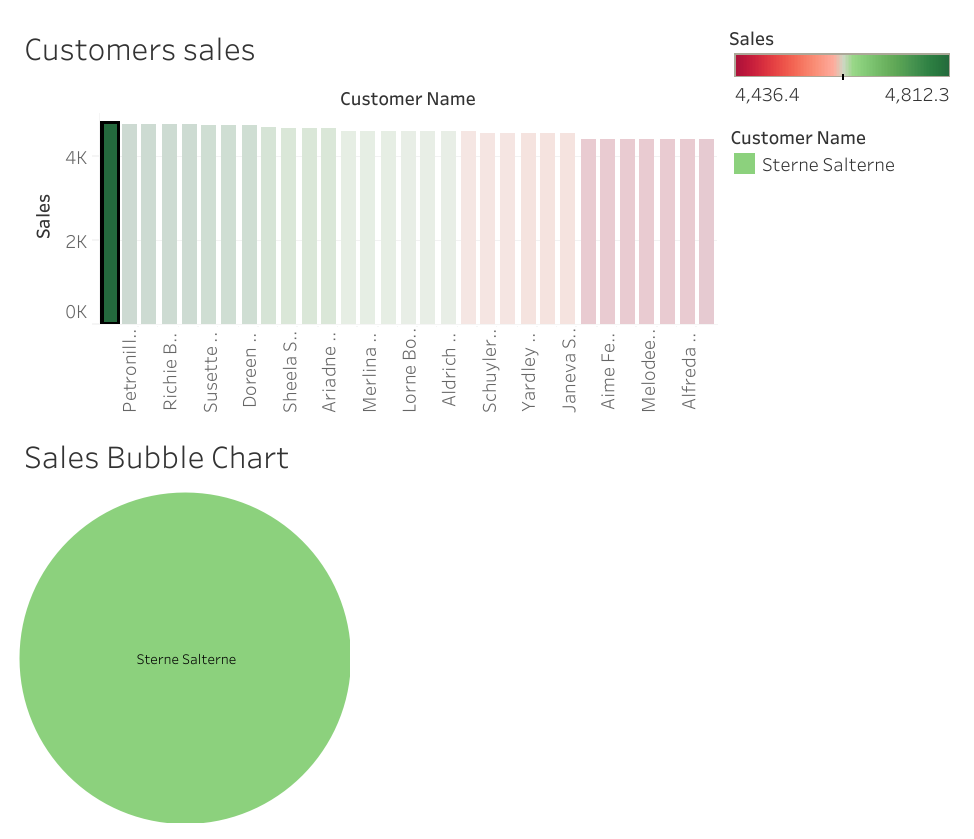

This screenshot's page, from the dashboard's own definition file:
{"tool":"tableau","page":{"name":"Customers sales Bar and Bubble Chart","canvas":[650,860],"ordinal":0},"visuals":[{"type":"worksheet","title":"Customers sales","mark":"Automatic","rows":["Sales"],"cols":["Customer Name"],"box":[8,8.4,474,421.6]},{"type":"legend","title":"Customers sales","param":"[federated.10ikwwm1ajdv2n1eb50fu113wv29].[sum:Sales:qk]","box":[482,8.4,160,85.1]},{"type":"legend","title":"Sales Bubble Chart","param":"[federated.10ikwwm1ajdv2n1eb50fu113wv29].[none:Customer Name:nk]","box":[482,93.5,160,62]},{"type":"worksheet","title":"Sales Bubble Chart","mark":"Circle","box":[8,430,474,421.6]}]}

Visuals, with their boxes in screenshot pixels (x1, y1, x2, y2):
"Customers sales" worksheet: locate(117, 49, 573, 455)
"Customers sales" legend: locate(573, 49, 727, 131)
"Sales Bubble Chart" legend: locate(573, 131, 727, 190)
"Sales Bubble Chart" worksheet (Circle marks): locate(117, 455, 573, 838)
